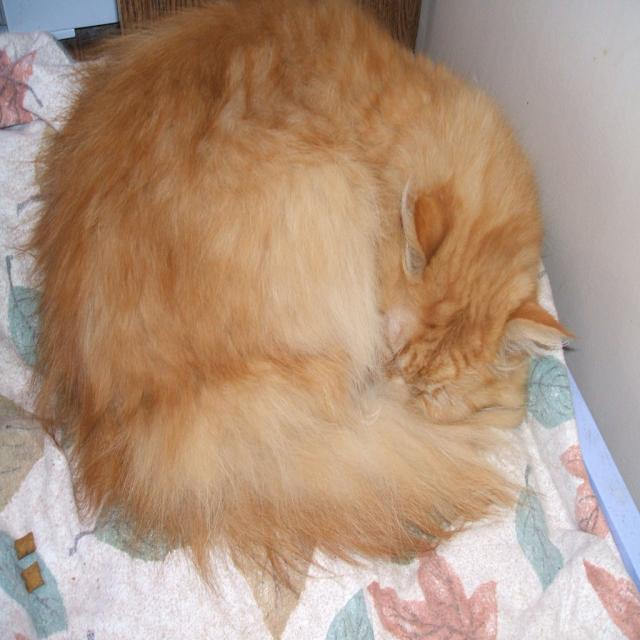Cat: (5, 0, 579, 601)
